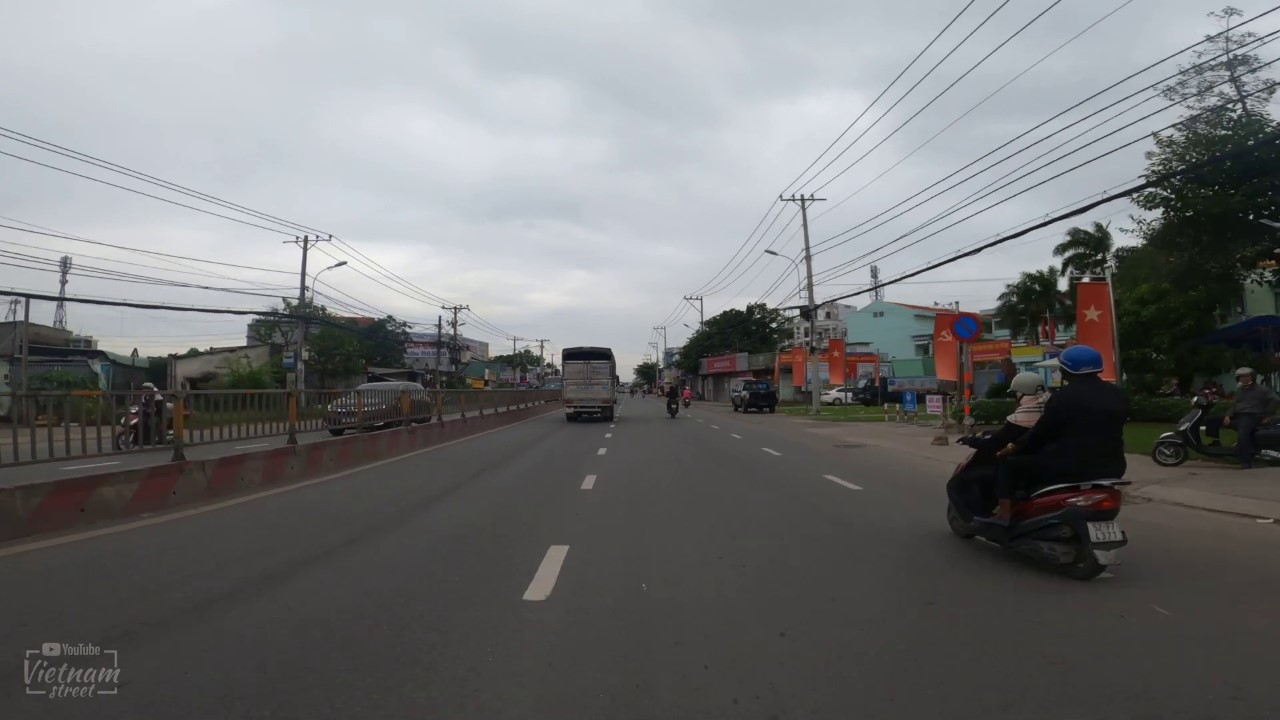cam_do_xe: (949, 311, 983, 343)
